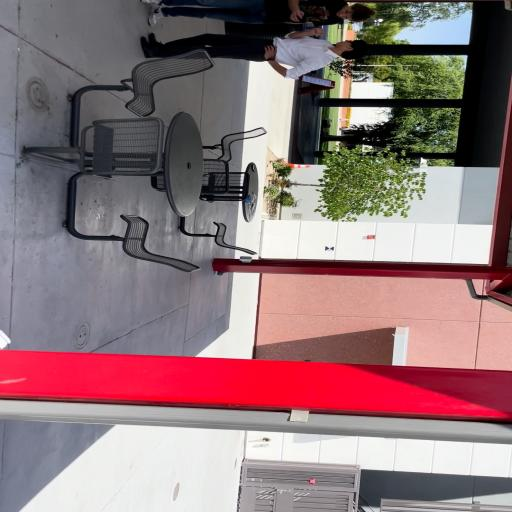target6: (324, 246, 335, 252)
